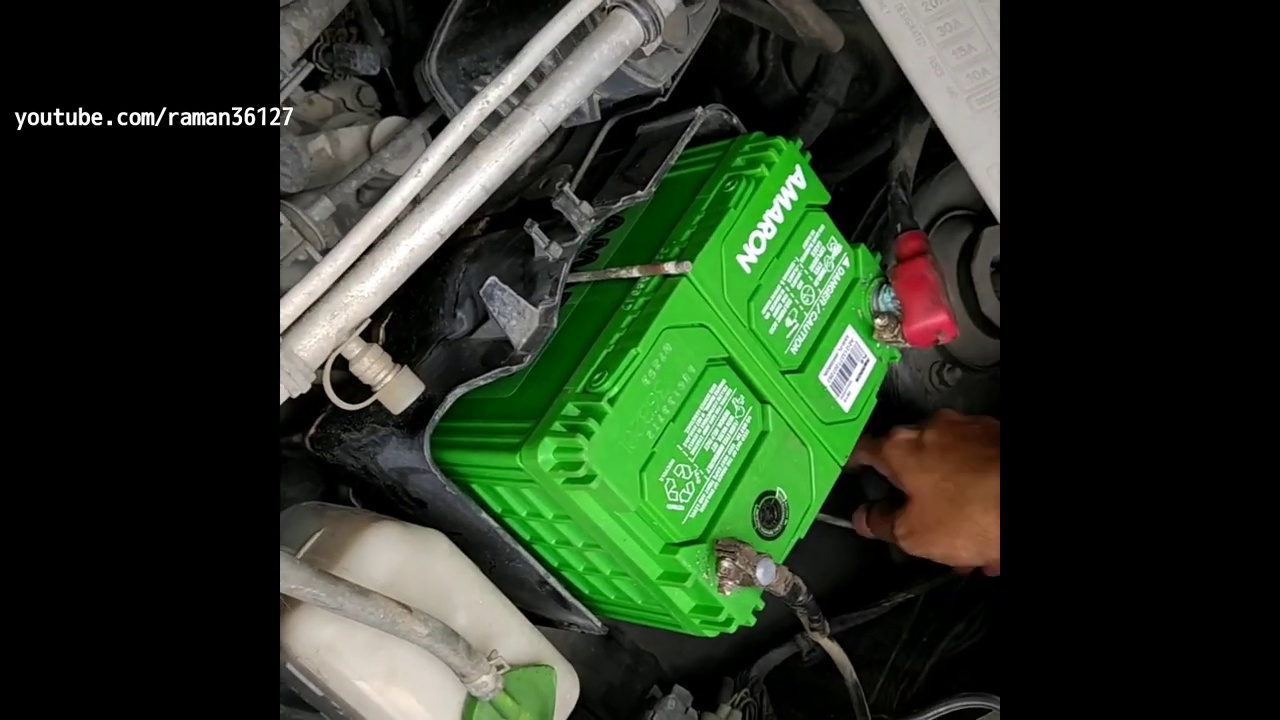battery: (558, 139, 954, 643)
neg_connected: (693, 505, 820, 632)
pos_connected: (845, 231, 955, 379)
